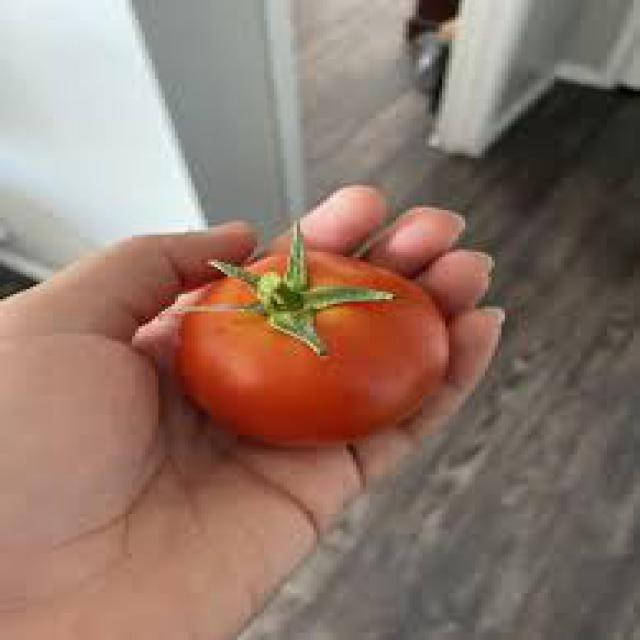tomato: (182, 232, 448, 440)
